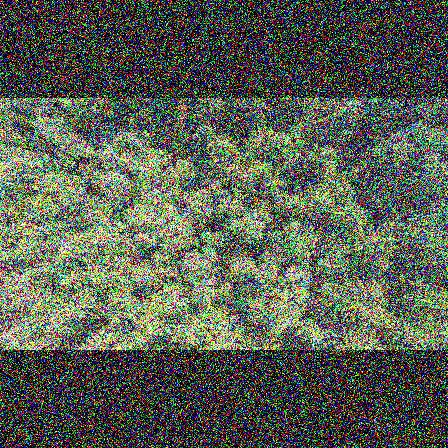Dead: (280, 264, 312, 284), (227, 312, 245, 329)
